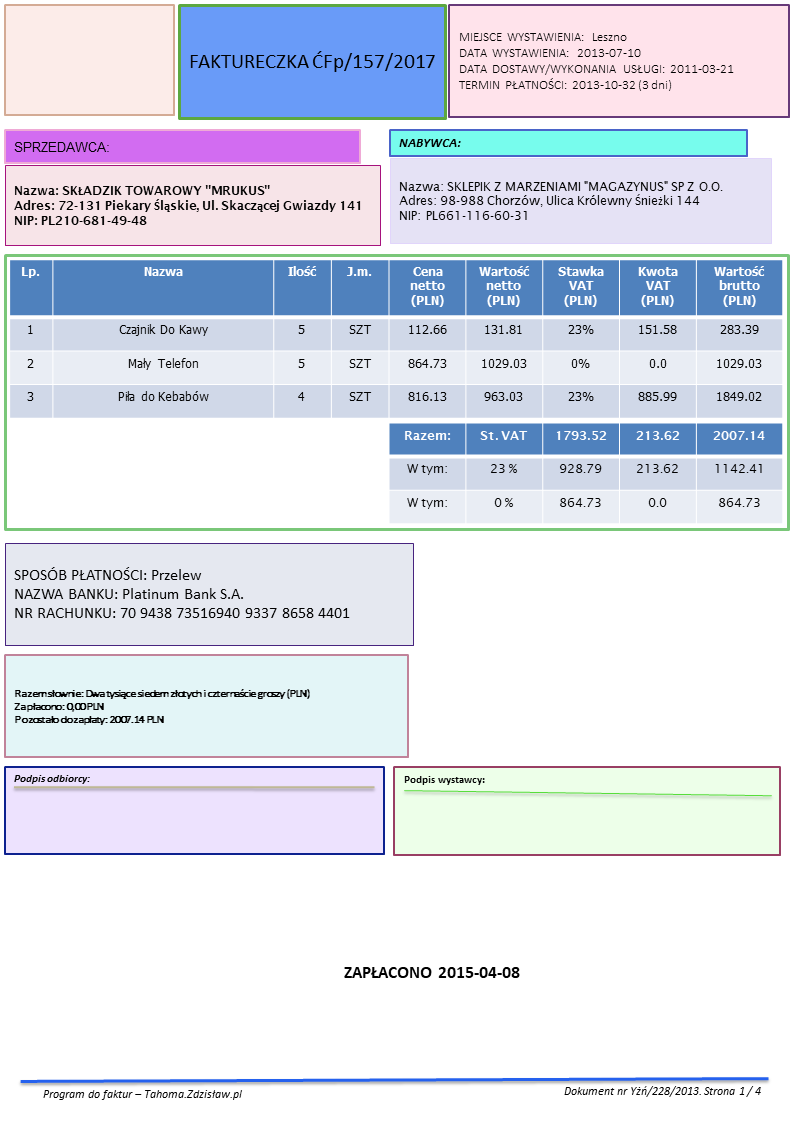Table: (7, 257, 781, 416), (386, 420, 785, 524)
TextBox: (8, 562, 354, 624), (452, 27, 738, 97), (10, 177, 363, 232), (394, 174, 726, 226), (11, 683, 316, 728), (181, 43, 438, 76), (36, 1080, 245, 1107), (335, 958, 524, 984), (561, 1082, 768, 1101), (8, 136, 111, 155), (10, 767, 93, 790), (395, 770, 487, 789), (395, 133, 461, 153)
